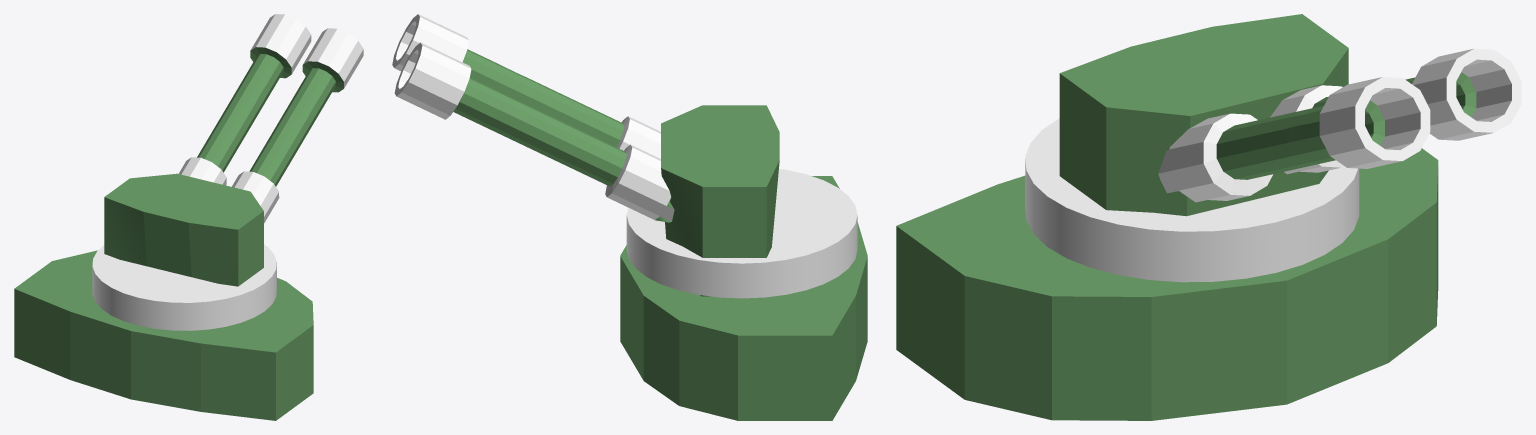
The model's file is Gun.fbx.
The picture shows the model from 3 angles, left to right: view 1: azimuth 30°, elevation 25°; view 2: azimuth 150°, elevation 25°; view 3: azimuth 270°, elevation 25°; orthographic projection. The views are drawn at different scales.
Visible parts, largest first — view 1: Pipe__23_; view 2: Pipe__23_; view 3: Pipe__23_.
Boxes of the visible parts, x1,y1,x2,y2 form: Pipe__23_: [14, 14, 363, 420]; Pipe__23_: [392, 14, 867, 420]; Pipe__23_: [896, 14, 1521, 420].
Size of the model in its own units: 1065 by 726 by 915.
